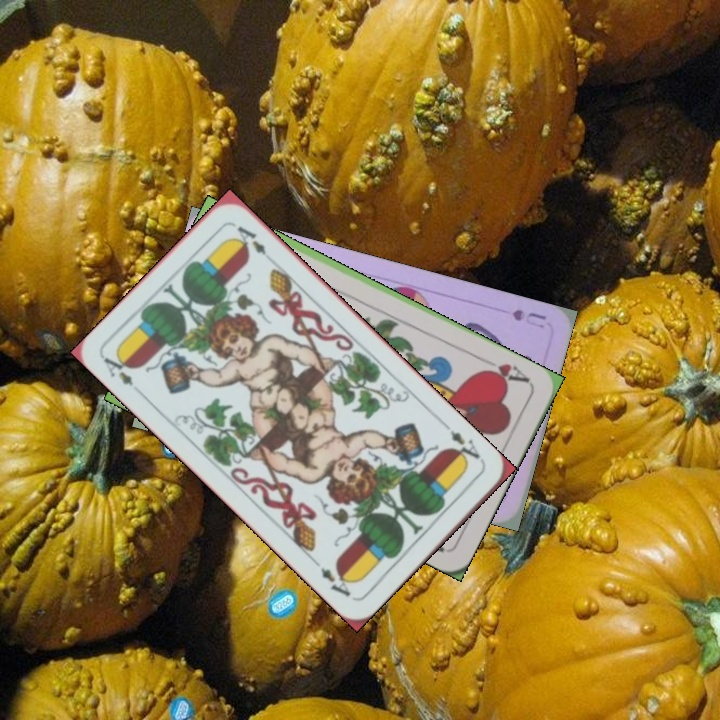EA: (439, 419, 485, 468), (98, 349, 136, 389)
HA: (477, 353, 533, 387)
SU: (508, 305, 549, 331)
